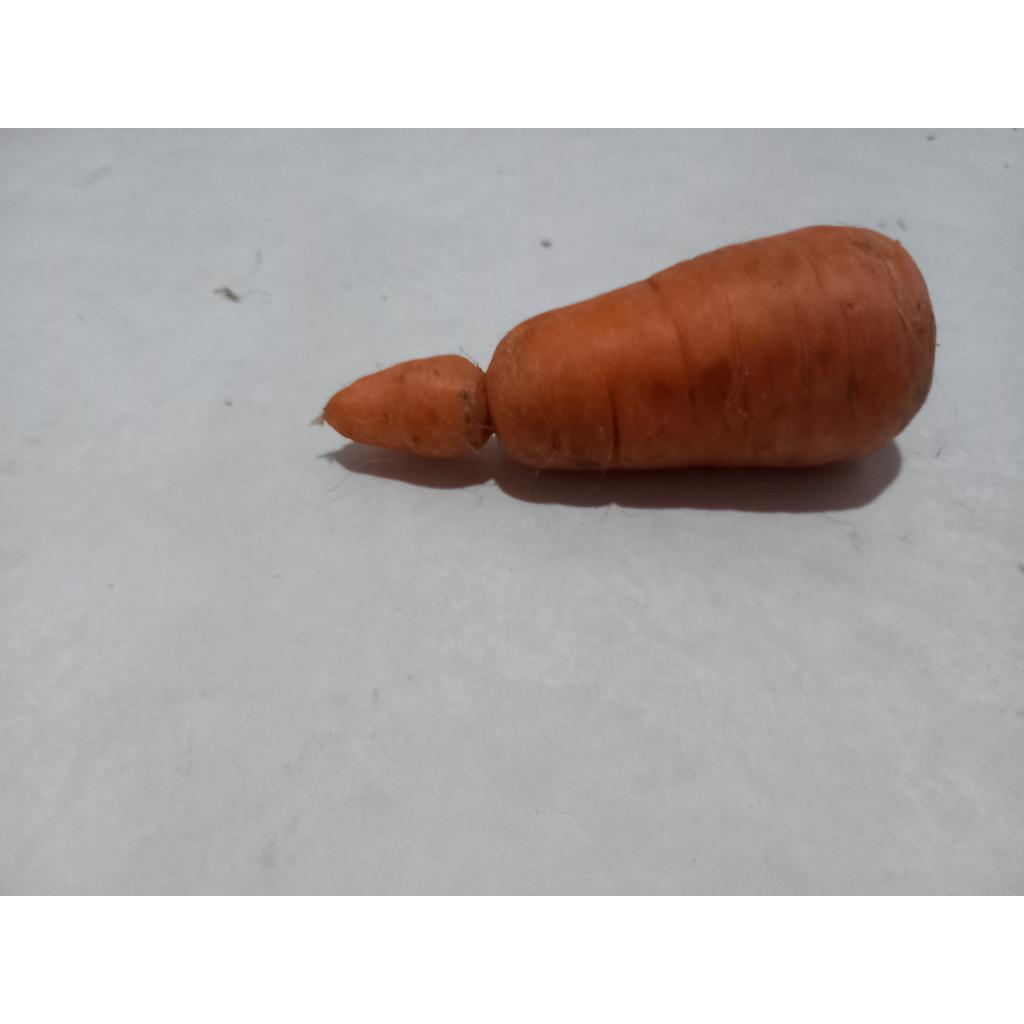carrot: (324, 226, 936, 470)
